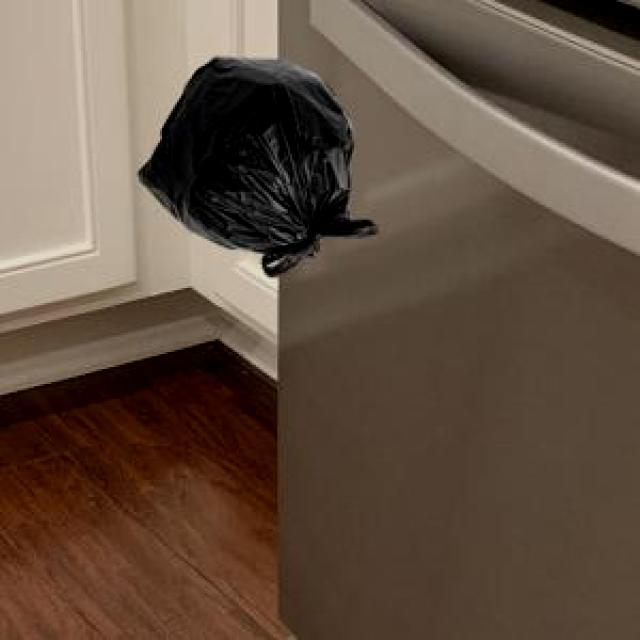Trashbag: (136, 48, 378, 276)
